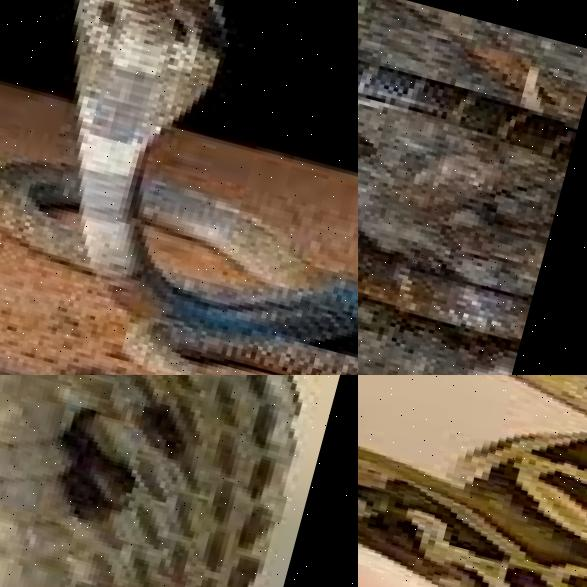1: (0, 0, 358, 375)
5: (358, 0, 587, 375), (0, 375, 355, 587)
snake: (358, 375, 587, 587)
